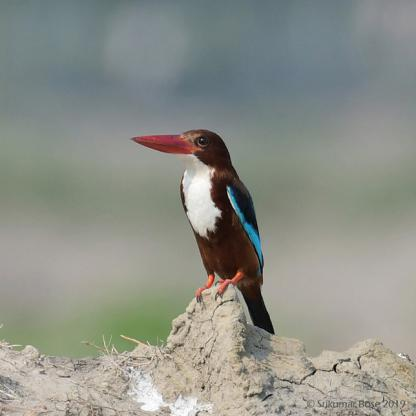Burung: (130, 129, 274, 340)
